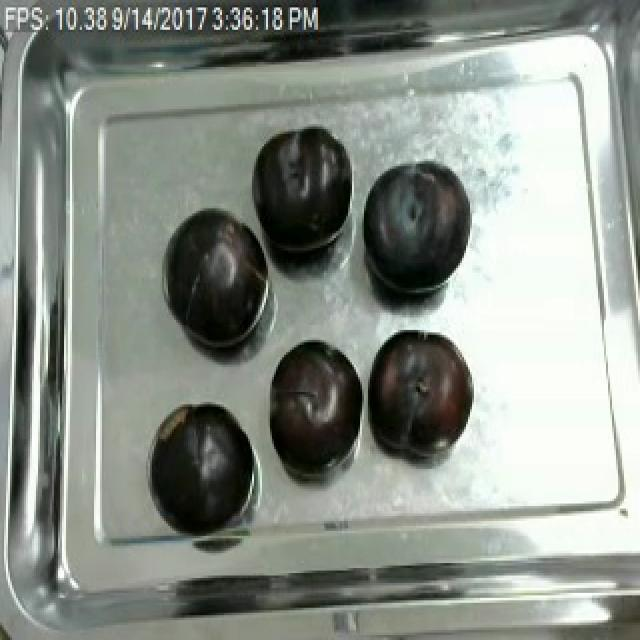Fruit: (358, 156, 474, 305), (162, 204, 272, 352), (146, 397, 262, 536), (246, 122, 354, 266), (364, 325, 476, 459), (264, 335, 360, 476)
